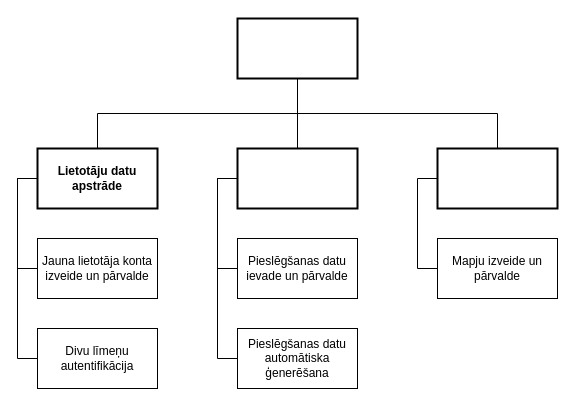
This 576x406 diagram has some shape labels left out. The shapes that lost their labels are listed below. From the top down, each one's centre as x and y in pixels, then its label:
At point 297,48: "Paroļu glabāšanas lietojumprogramma".
At point 297,178: "Pieslēgšanas datu apstrāde".
At point 497,178: "Satura organizēšana".
